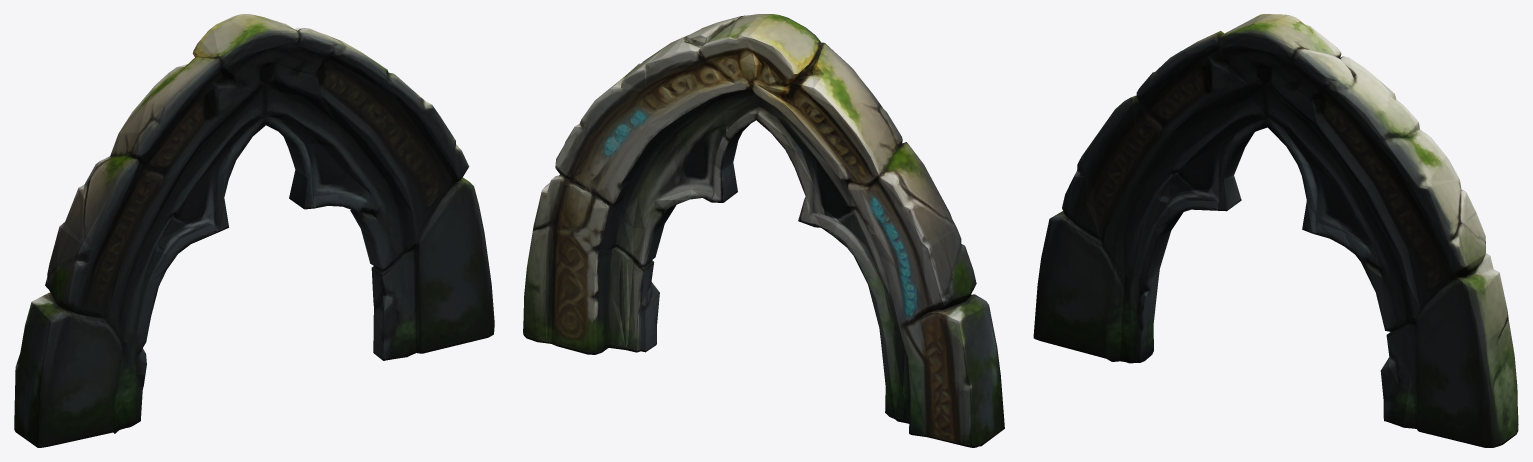
The model's file is arch_fragment.glb.
3 views of the same model, side by side, from view 1: azimuth 30°, elevation 25°; view 2: azimuth 150°, elevation 25°; view 3: azimuth 330°, elevation 25° (orthographic).
Parts seen in each view (by area): view 1: world; view 2: world; view 3: world.
Boxes of the visible parts, box(x1,y1,x2,y2) form: world: box(14, 14, 494, 447); world: box(523, 14, 1004, 447); world: box(1033, 14, 1518, 447).
Bounding box in the file's own units: 0.9983 × 0.7612 × 0.1156.
Materials: 1 (1 with a texture image).
